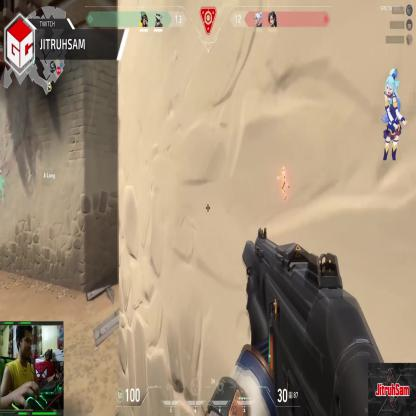enemy: (278, 167, 289, 201)
enemy_head: (281, 167, 285, 174)
